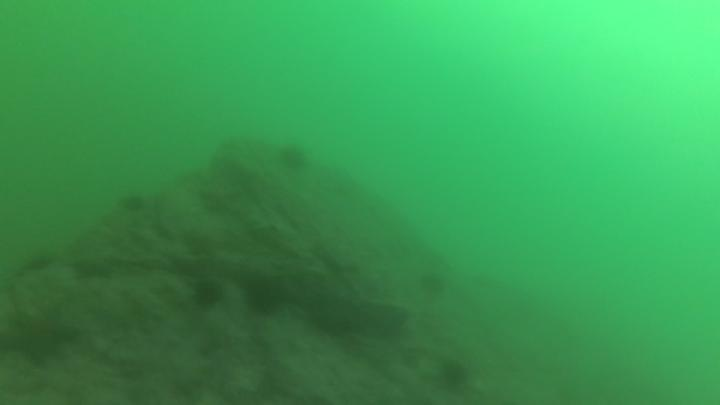echinus: (244, 272, 286, 318), (191, 275, 223, 309), (280, 141, 308, 174)
